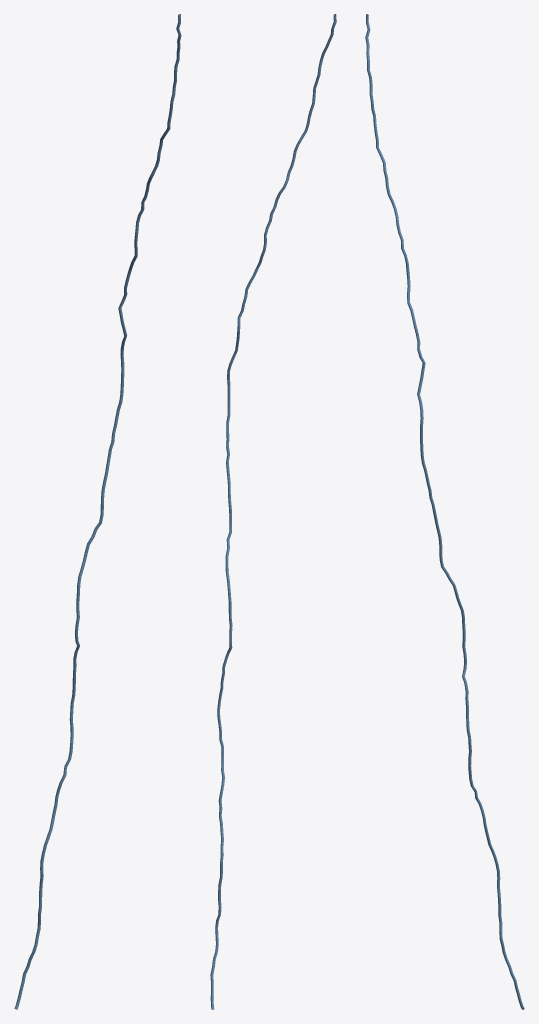
File: sweep42.fbx
3 renders of one model, left to right at view 1: azimuth 90°, elevation 25°; view 2: azimuth 150°, elevation 25°; view 3: azimuth 270°, elevation 25°, orthographic. The views are drawn at different scales.
Parts seen in each view (by area): view 1: sweep42; view 2: sweep42; view 3: sweep42.
Boxes of the visible parts, x1=… form: sweep42: x1=14, y1=14, x2=181, y2=1009; sweep42: x1=210, y1=14, x2=336, y2=1009; sweep42: x1=365, y1=14, x2=524, y2=1009.
Bounding box in the file's own units: 0.6525 × 7.17 × 1.06.
